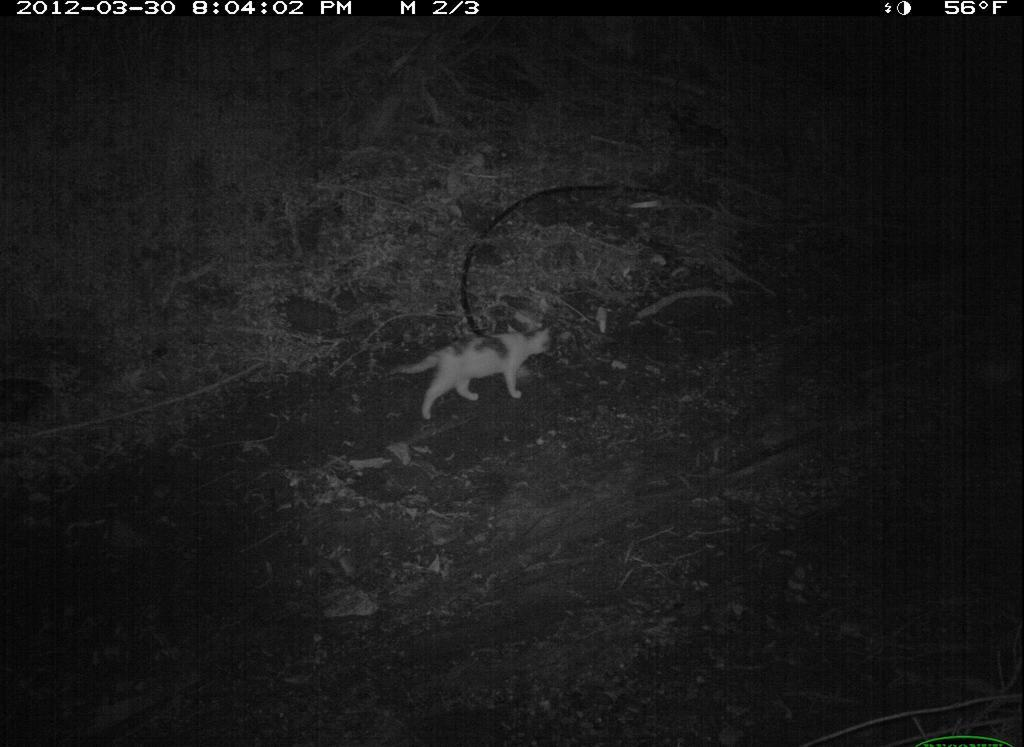cat: (383, 313, 561, 425)
